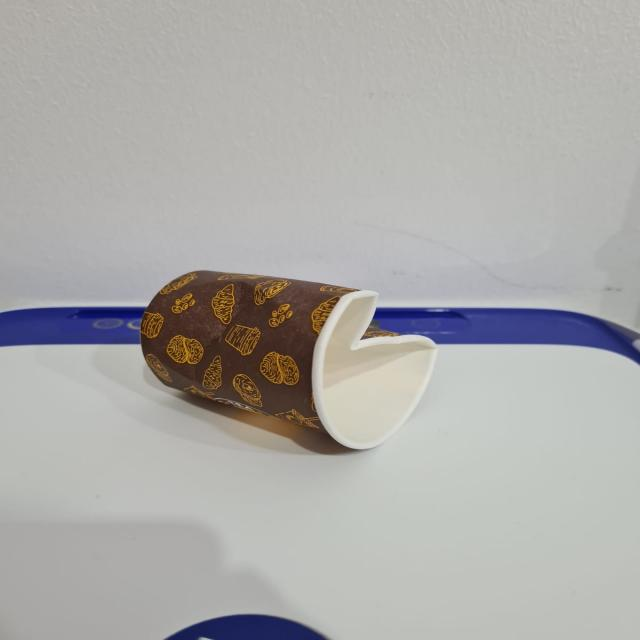cups: (125, 254, 441, 456)
